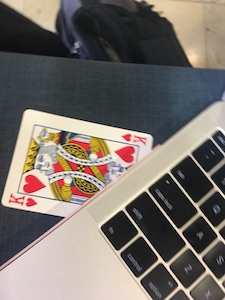KingOfHearts: (1, 107, 157, 221)
